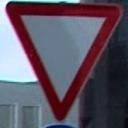preferencia: (4, 0, 124, 119)
